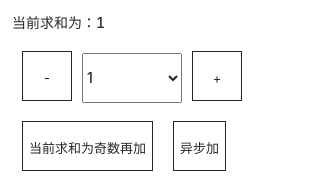
it: Count / › decrements the count through redux
This screenshot has width=332, height=188.
Expected: the text with test id "count" reads "1", 96,14 -> 105,31
Click the button with test id "decrement": (47, 76) 22,51 -> 72,101
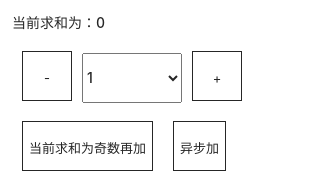
Result: the text with test id "count" reads "0" at 96,14 -> 105,31
